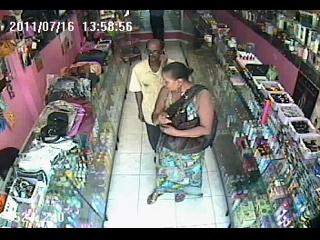Normal: (147, 62, 218, 204), (128, 39, 172, 158), (76, 50, 109, 66)
